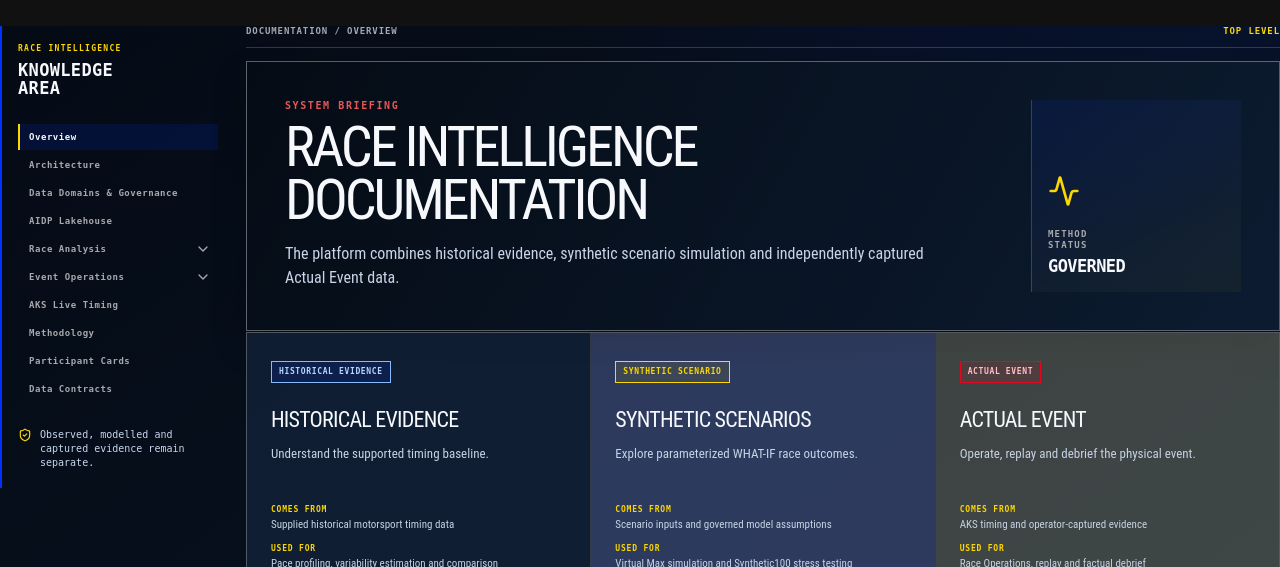
Test: DocumentationPage › navigates Event Operations by child page and keeps its factual distinction
The width and height of the screenshot is (1280, 567).
Click the button "Event Operations" at (102, 277), box [18, 264, 187, 290]
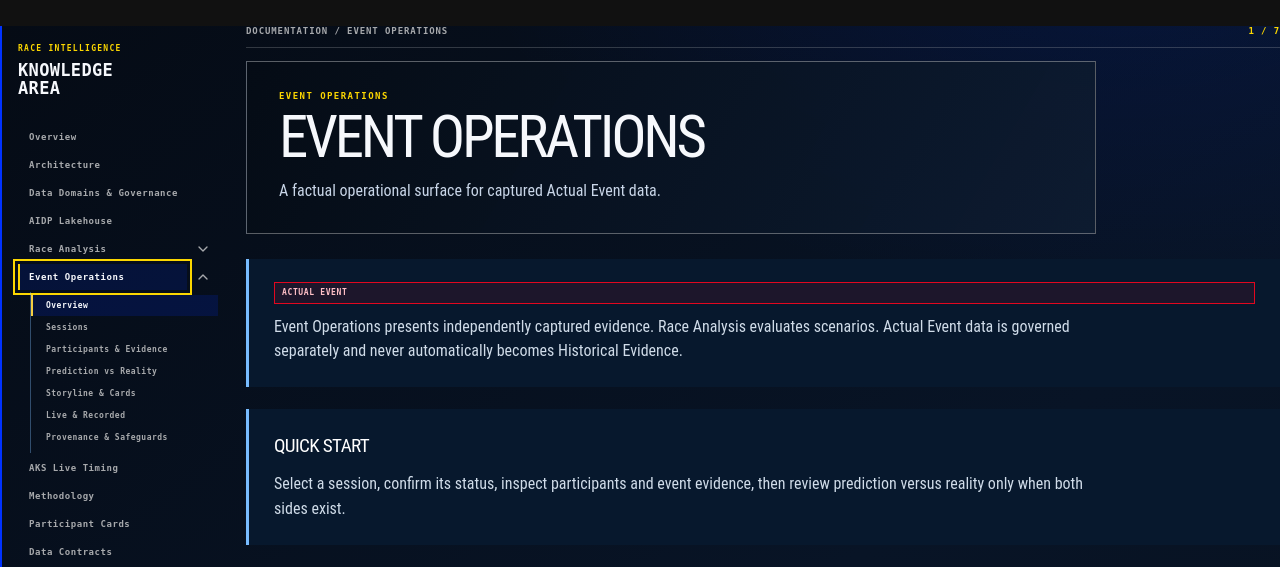
Expected: the heading "Event Operations" is shown, [279, 102, 704, 171]
Expected: the text "factual operational surface for captured Actual Event data" is shown, [279, 180, 661, 200]
Expected: the text "Actual Event data is governed separately and never automatically becomes Historical Evidence" is shown, [274, 316, 1070, 360]
Click the button "Sessions" at (124, 327), box [31, 317, 218, 338]
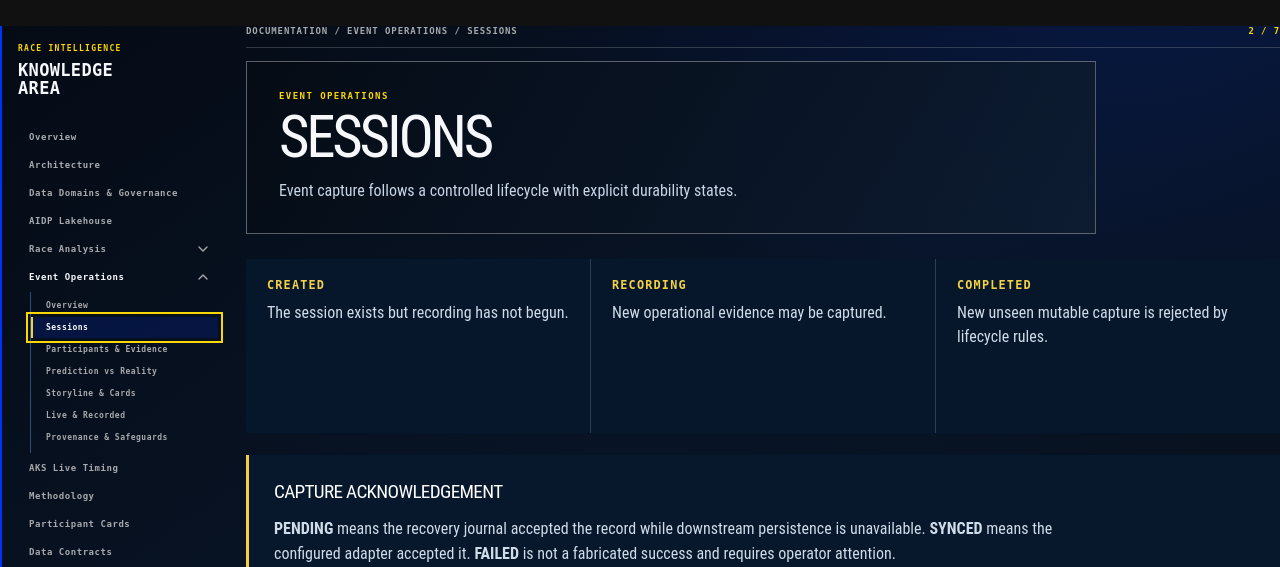
Expected: the heading "Sessions" is shown, [279, 102, 491, 171]
Expected: the text "CREATED" is shown, [267, 278, 325, 292]
Expected: the text "RECORDING" is shown, [612, 278, 687, 292]
Click the button "Prediction vs Reality" at (124, 371), box [31, 361, 218, 382]
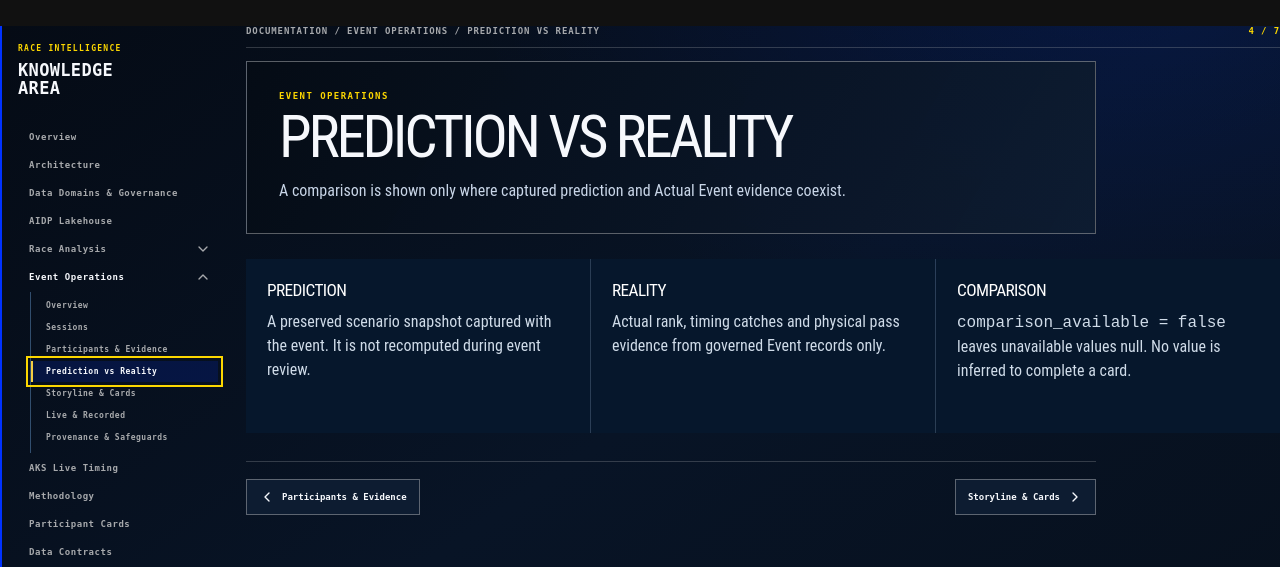
Expected: the text "comparison_available = false" is shown, [957, 314, 1226, 332]
